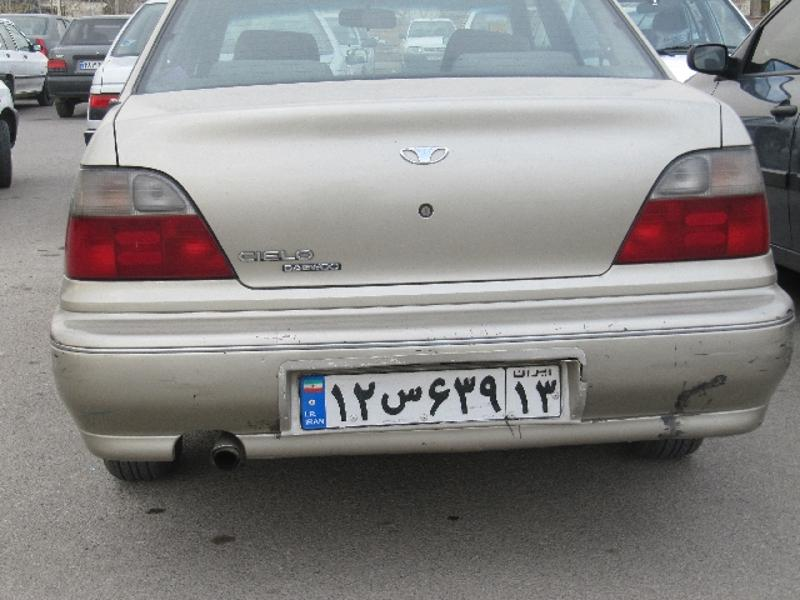Plate: (289, 355, 586, 441)
